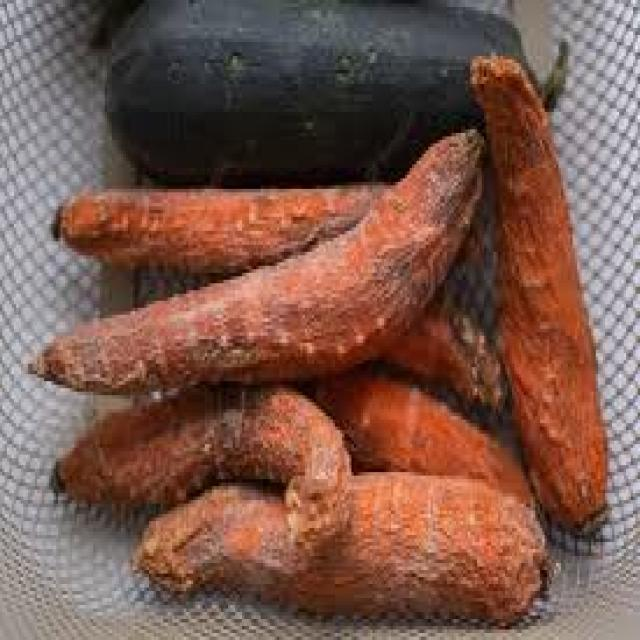Stale_Carrot: (16, 123, 498, 387), (485, 60, 632, 533), (140, 508, 556, 623)
